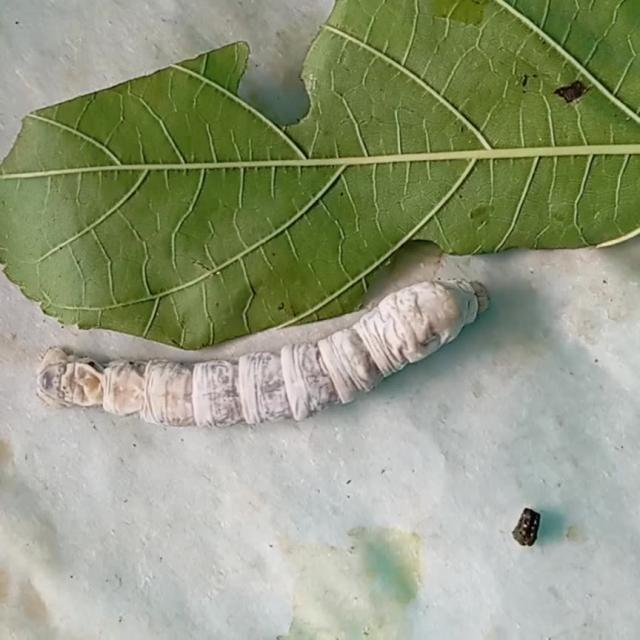Grasserie: (19, 250, 524, 480)
